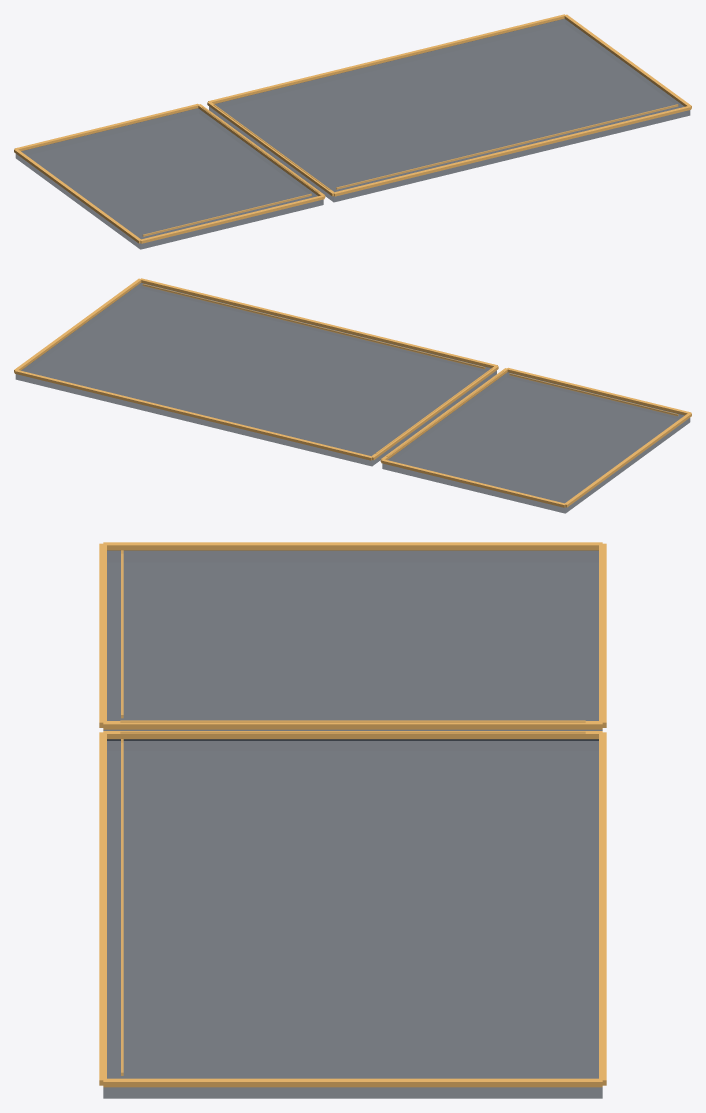
File: two_piece_cut_glass_card_FFC56F.obj
3 renders of one model, top to bottom at view 1: azimuth 30°, elevation 25°; view 2: azimuth 150°, elevation 25°; view 3: azimuth 270°, elevation 25°, orthographic. The views are drawn at different scales.
Visible parts, largest first — view 1: RightSmokedGlassPane, LeftSmokedGlassPane, RightPane_border_top, RightPane_border_bottom, RightInnerTopGlow, LeftPane_border_top, LeftPane_border_bottom, LeftPane_border_left, RightPane_border_right, LeftPane_border_right, RightPane_border_left, LeftInnerTopGlow; view 2: RightSmokedGlassPane, LeftSmokedGlassPane, RightPane_border_bottom, RightPane_border_top, RightInnerTopGlow, LeftPane_border_bottom, LeftPane_border_top, LeftPane_border_left, RightPane_border_right, LeftPane_border_right, RightPane_border_left, LeftInnerTopGlow; view 3: RightSmokedGlassPane, LeftSmokedGlassPane, RightPane_border_right, LeftPane_border_right, LeftPane_border_left, RightPane_border_left, RightPane_border_top, RightPane_border_bottom, LeftPane_border_top, LeftPane_border_bottom, LeftCutEdgeGlow, RightCutEdgeGlow (+1 smaller).
Boxes of the visible parts, x1,y1,x2,y2 form: RightSmokedGlassPane: (209,18,690,202); LeftSmokedGlassPane: (15,108,323,249); RightPane_border_top: (334,105,691,196); RightPane_border_bottom: (208,14,565,103); RightInnerTopGlow: (336,104,678,189); LeftPane_border_top: (140,195,324,243); LeftPane_border_bottom: (14,103,199,151); LeftPane_border_left: (14,149,141,243); RightPane_border_right: (564,14,691,108); LeftPane_border_right: (198,104,325,197); RightPane_border_left: (207,101,334,196); LeftInnerTopGlow: (142,193,311,236); RightSmokedGlassPane: (15,282,496,466); LeftSmokedGlassPane: (382,372,690,513); RightPane_border_bottom: (14,369,371,460); RightPane_border_top: (140,278,497,367); RightInnerTopGlow: (142,283,485,369); LeftPane_border_bottom: (381,459,565,507); LeftPane_border_top: (506,367,691,415); LeftPane_border_left: (564,413,691,507); RightPane_border_right: (14,278,141,372); LeftPane_border_right: (380,368,507,461); RightPane_border_left: (371,365,498,460); LeftInnerTopGlow: (509,373,678,416); RightSmokedGlassPane: (103,739,602,1098); LeftSmokedGlassPane: (103,550,602,740); RightPane_border_right: (103,1078,602,1087); LeftPane_border_right: (103,721,602,729); LeftPane_border_left: (103,542,602,550); RightPane_border_left: (103,731,602,739); RightPane_border_top: (99,732,106,1085); RightPane_border_bottom: (599,732,606,1085); LeftPane_border_top: (99,543,106,727); LeftPane_border_bottom: (599,543,606,727); LeftCutEdgeGlow: (120,720,585,722); RightCutEdgeGlow: (120,731,585,733).
Bounding box in the file's own units: 3.02 × 0.051 × 1.2.
